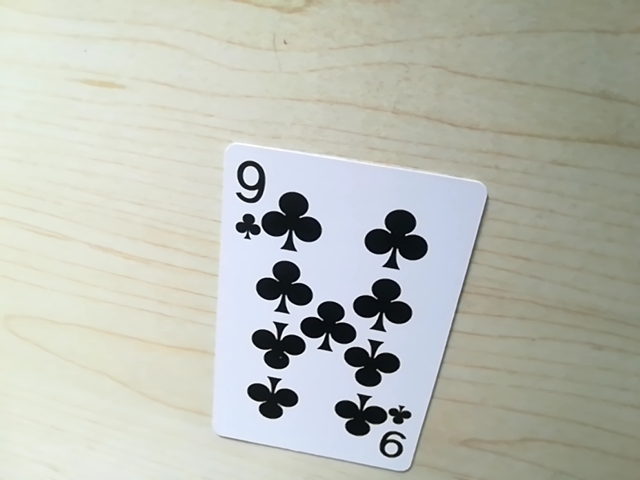mh 9: (227, 154, 274, 234), (366, 409, 416, 465)
